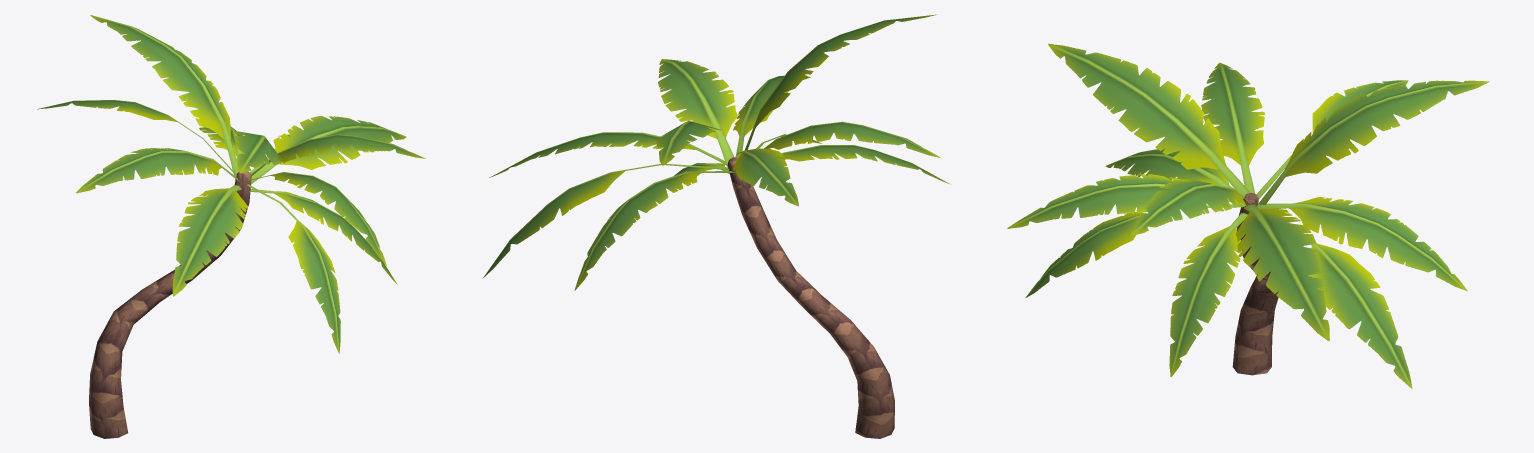
File: palm-4.glb
The picture shows the model from 3 angles, left to right: view 1: azimuth 30°, elevation 25°; view 2: azimuth 150°, elevation 25°; view 3: azimuth 270°, elevation 25°; orthographic projection. The views are drawn at different scales.
Visible parts, largest first — view 1: PalmTree_4; view 2: PalmTree_4; view 3: PalmTree_4.
Part boxes in pixels (box(x1,y1,x2,y2)): PalmTree_4: box(37, 15, 425, 438); PalmTree_4: box(482, 14, 950, 438); PalmTree_4: box(1007, 43, 1489, 388).
Size of the model in its own units: 4.75 by 3.65 by 4.95.
2 materials, 2 textured.
